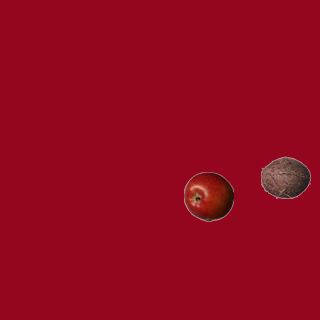Apple Braeburn: (183, 171, 233, 221)
Cocos: (260, 152, 310, 202)
